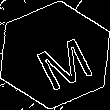M_NW: (20, 22, 90, 88)
